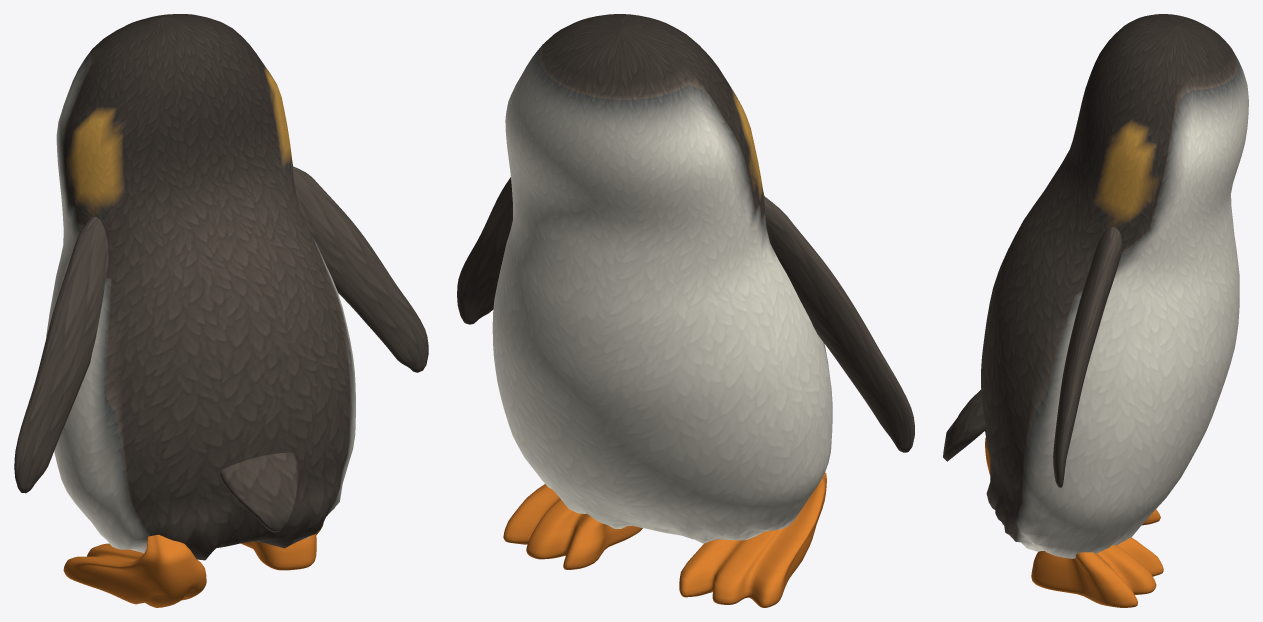
Rendered from candidate.glb.
3 renders of one model, left to right at view 1: azimuth 30°, elevation 25°; view 2: azimuth 150°, elevation 25°; view 3: azimuth 270°, elevation 25°, orthographic. The views are drawn at different scales.
Parts seen in each view (by area): view 1: RearBlockout; view 2: RearBlockout; view 3: RearBlockout.
Part boxes in pixels (x1=…): RearBlockout: x1=14, y1=14, x2=428, y2=607; RearBlockout: x1=457, y1=14, x2=914, y2=607; RearBlockout: x1=943, y1=14, x2=1248, y2=607.
Bounding box in the file's own units: 1.42 × 1.69 × 0.8989.
Materials: 1 (1 with a texture image).
